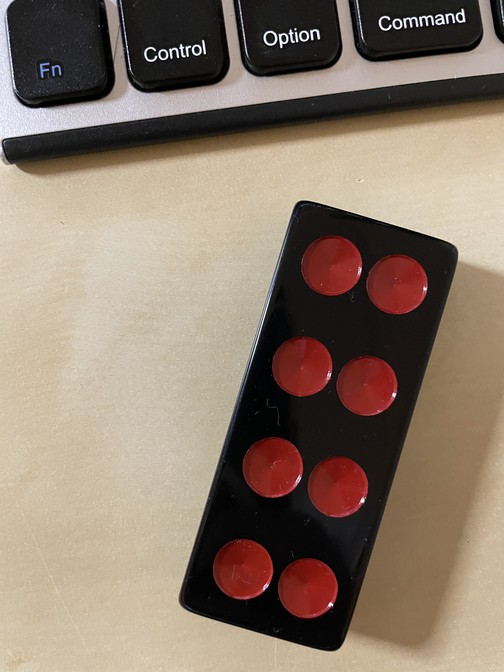man: (179, 200, 460, 655)
